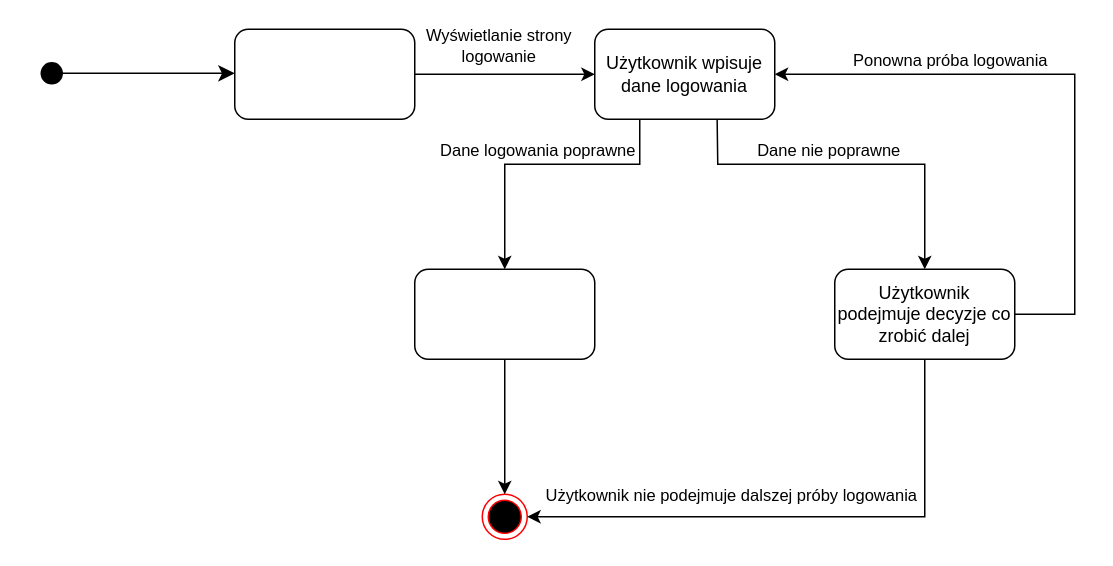
Some shapes in this 1113 by 566 pixel diagram are drawn without their labels. Here are the shapes that lost their labels. From the top down, the centre of each, then its label:
At pixel 324 73: "Użytkownik klika przycisk zaloguj na stronie głównej".
At pixel 504 313: "Użytkownik zostaje zalogowany na swoje konto".
